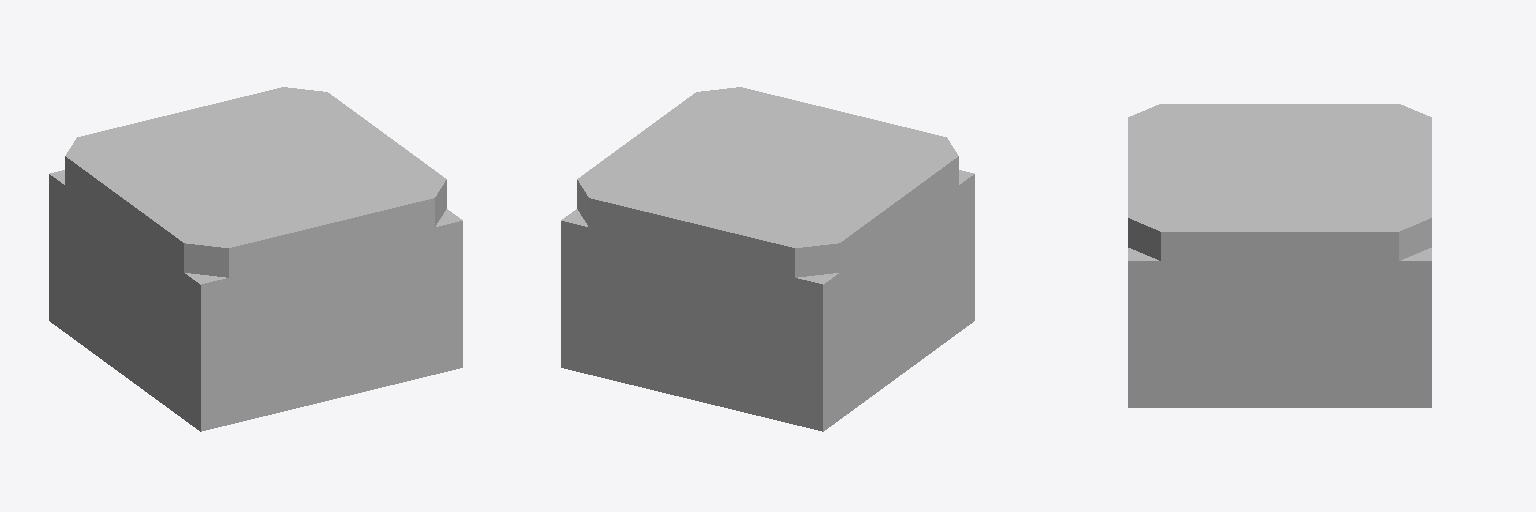
The model's file is 13yard-float.obj.
3 views of the same model, side by side, from view 1: azimuth 30°, elevation 25°; view 2: azimuth 150°, elevation 25°; view 3: azimuth 270°, elevation 25° (orthographic).
Visible parts, largest first — view 1: entity1_brush0, entity0_brush209; view 2: entity0_brush209, entity1_brush0; view 3: entity1_brush0, entity0_brush209.
Part boxes in pixels (x1,y1,x2,y2): entity1_brush0: (65,87,446,361); entity0_brush209: (49,170,462,431); entity0_brush209: (561,170,974,431); entity1_brush0: (577,87,958,361); entity1_brush0: (1128,104,1431,349); entity0_brush209: (1128,248,1431,407).
Size of the model in its own units: 448 by 288 by 448.